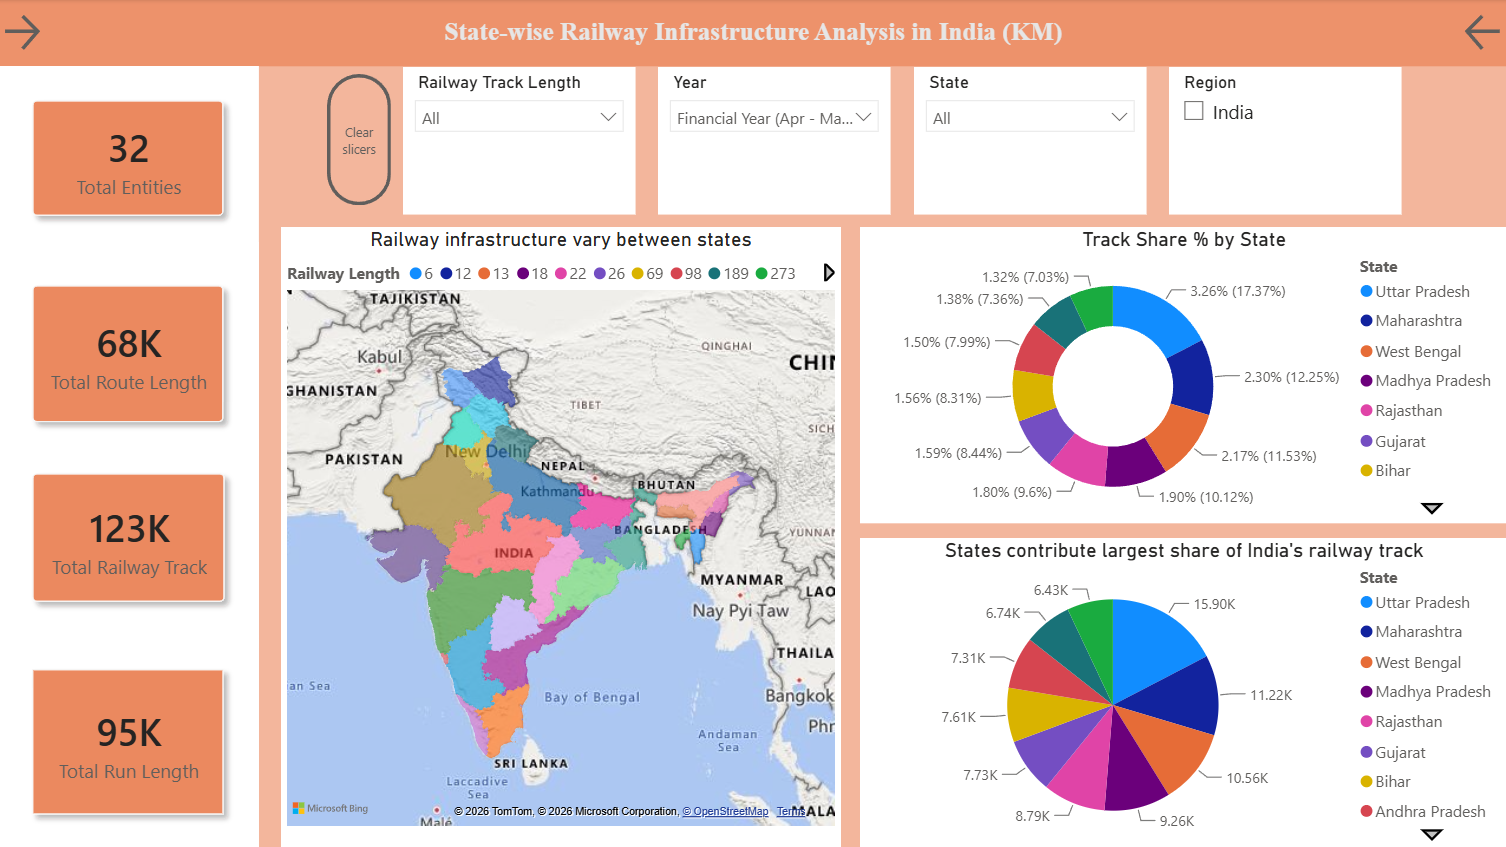

Layout of this report page (visuals, bound fields, positions):
{"tool":"powerbi","page":{"name":"Page 2","canvas":[1280,720],"ordinal":1},"visuals":[{"type":"textbox","box":[0,0,1280,57.4],"z":0},{"type":"filledMap","title":"Railway infrastructure vary between states","fields":{"Category":["Statewise Railway Track.State"],"Series":["Statewise Railway Track.Railway Track Length"]},"box":[239.8,193.2,474.4,527],"z":1000},{"type":"pieChart","title":"States contribute largest share of India''s railway track","fields":{"Category":["Statewise Railway Track.State"],"Y":["Avg(Statewise Railway Track.Railway Track Length)"]},"box":[730.6,456.3,549.4,263.9],"z":2000},{"type":"donutChart","fields":{"Category":["Statewise Railway Track.State"],"Y":["Statewise Railway Track.Track Share %"]},"box":[730.6,193.2,549.4,251],"z":3000},{"type":"cardVisual","fields":{"Data":["Count(Statewise Railway Track.State)"]},"box":[0,56.4,220.7,156.9],"z":4000},{"type":"cardVisual","fields":{"Data":["Statewise Railway Track.Total Railway Track"]},"box":[0,374.4,221.1,175.3],"z":5000},{"type":"cardVisual","fields":{"Data":["Statewise Railway Track.Total Route Length"]},"box":[0,206,220.7,174.1],"z":6000},{"type":"cardVisual","fields":{"Data":["Statewise Railway Track.Total Running Track Length"]},"box":[0,541.9,220.7,179],"z":7000},{"type":"slicer","fields":{"Values":["Statewise Railway Track.State"]},"box":[776.3,57.8,196.7,125.1],"z":8000},{"type":"slicer","fields":{"Values":["Statewise Railway Track.Year"]},"box":[558.9,57.8,196.7,125.1],"z":9000},{"type":"slicer","fields":{"Values":["Statewise Railway Track.Country"]},"box":[991.9,57.8,196.7,125.1],"z":10000},{"type":"slicer","fields":{"Values":["Statewise Railway Track.Railway Track Length"]},"box":[343.3,57.8,196.7,125.1],"z":11000},{"type":"actionButton","box":[278.6,63.8,54.3,111.3],"z":12000},{"type":"actionButton","box":[0,8.6,100.1,39.7],"z":13000},{"type":"actionButton","box":[1238.6,8.6,41.4,39.7],"z":14000},{"type":"cardVisual","fields":{"Data":["Statewise Railway Track.Total Railway Track"]},"box":[0.2,372.7,221.1,167.7],"z":15000},{"type":"cardVisual","fields":{"Data":["Statewise Railway Track.Total Route Length"]},"box":[0,213.3,220.7,174.1],"z":16000},{"type":"cardVisual","fields":{"Data":["Statewise Railway Track.Total Running Track Length"]},"box":[0.2,538.5,220.7,181.5],"z":17000}]}

Visuals, with their boxes in screenshot pixels (x1, y1, x2, y2), scaled from the page's 1280x720 canvas onto the 1506x847 screenshot:
textbox: bbox(0, 0, 1505, 68)
"Railway infrastructure vary between states" filledMap: bbox(282, 227, 840, 846)
"States contribute largest share of India''s railway track" pieChart: bbox(860, 537, 1505, 846)
donutChart - Statewise Railway Track.State x Statewise Railway Track.Track Share %: bbox(860, 227, 1505, 523)
cardVisual - Count(Statewise Railway Track.State): bbox(0, 66, 260, 251)
cardVisual - Statewise Railway Track.Total Railway Track: bbox(0, 440, 260, 647)
cardVisual - Statewise Railway Track.Total Route Length: bbox(0, 242, 260, 447)
cardVisual - Statewise Railway Track.Total Running Track Length: bbox(0, 637, 260, 846)
slicer - Statewise Railway Track.State: bbox(913, 68, 1145, 215)
slicer - Statewise Railway Track.Year: bbox(658, 68, 889, 215)
slicer - Statewise Railway Track.Country: bbox(1167, 68, 1398, 215)
slicer - Statewise Railway Track.Railway Track Length: bbox(404, 68, 635, 215)
actionButton: bbox(328, 75, 392, 206)
actionButton: bbox(0, 10, 118, 57)
actionButton: bbox(1457, 10, 1505, 57)
cardVisual - Statewise Railway Track.Total Railway Track: bbox(0, 438, 260, 636)
cardVisual - Statewise Railway Track.Total Route Length: bbox(0, 251, 260, 456)
cardVisual - Statewise Railway Track.Total Running Track Length: bbox(0, 633, 260, 846)
